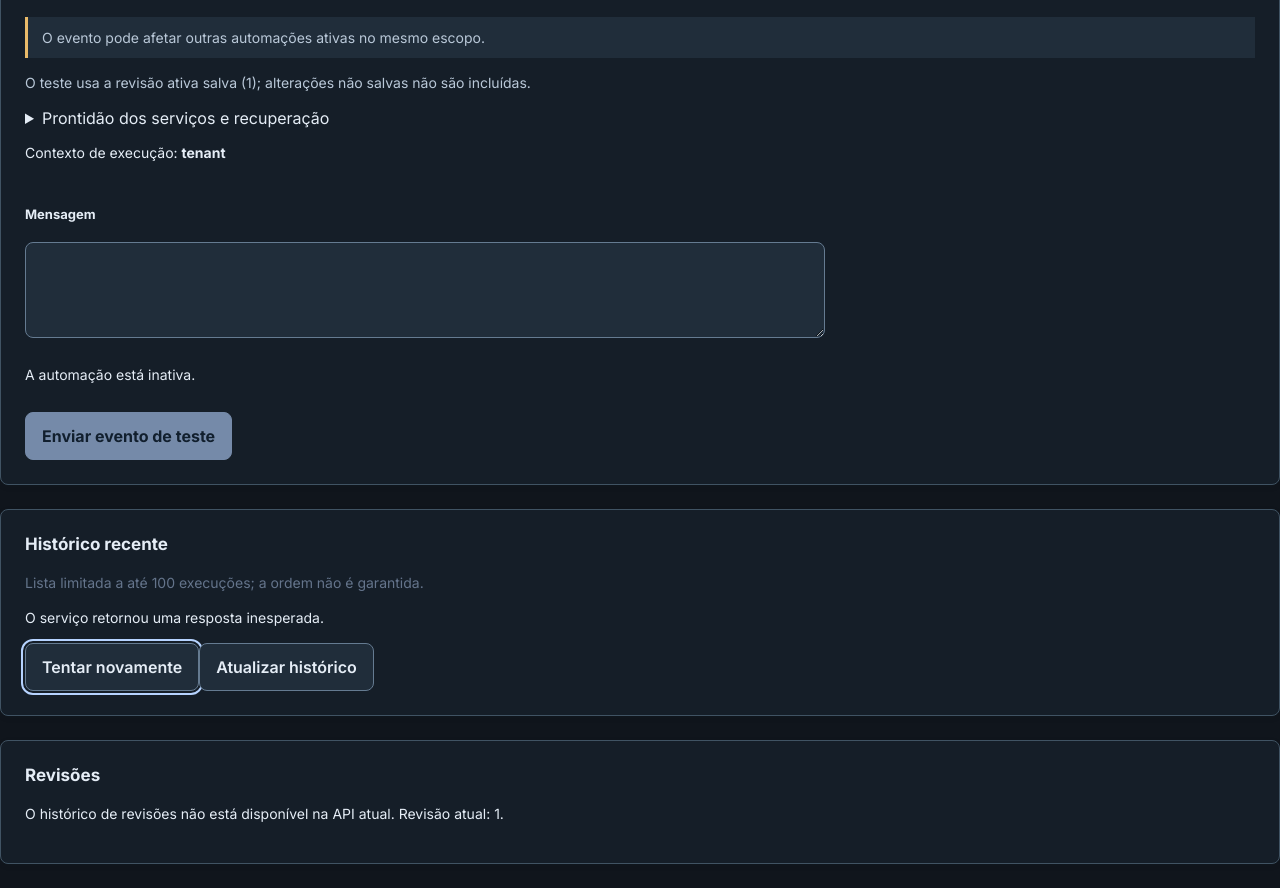
execution history interactions › sanitizes malformed errors, retries and retains meaningful focus through loading and empty states
(page scrolled)
Expected: the message shows "resposta inesperada", [25, 609, 324, 626]
Expected: the element "Histórico recente" does not show "PRIVATE_PAYLOAD_VALUE", [0, 508, 1279, 716]
Click the button "Tentar novamente". click: (112, 667)
box: [25, 643, 199, 691]
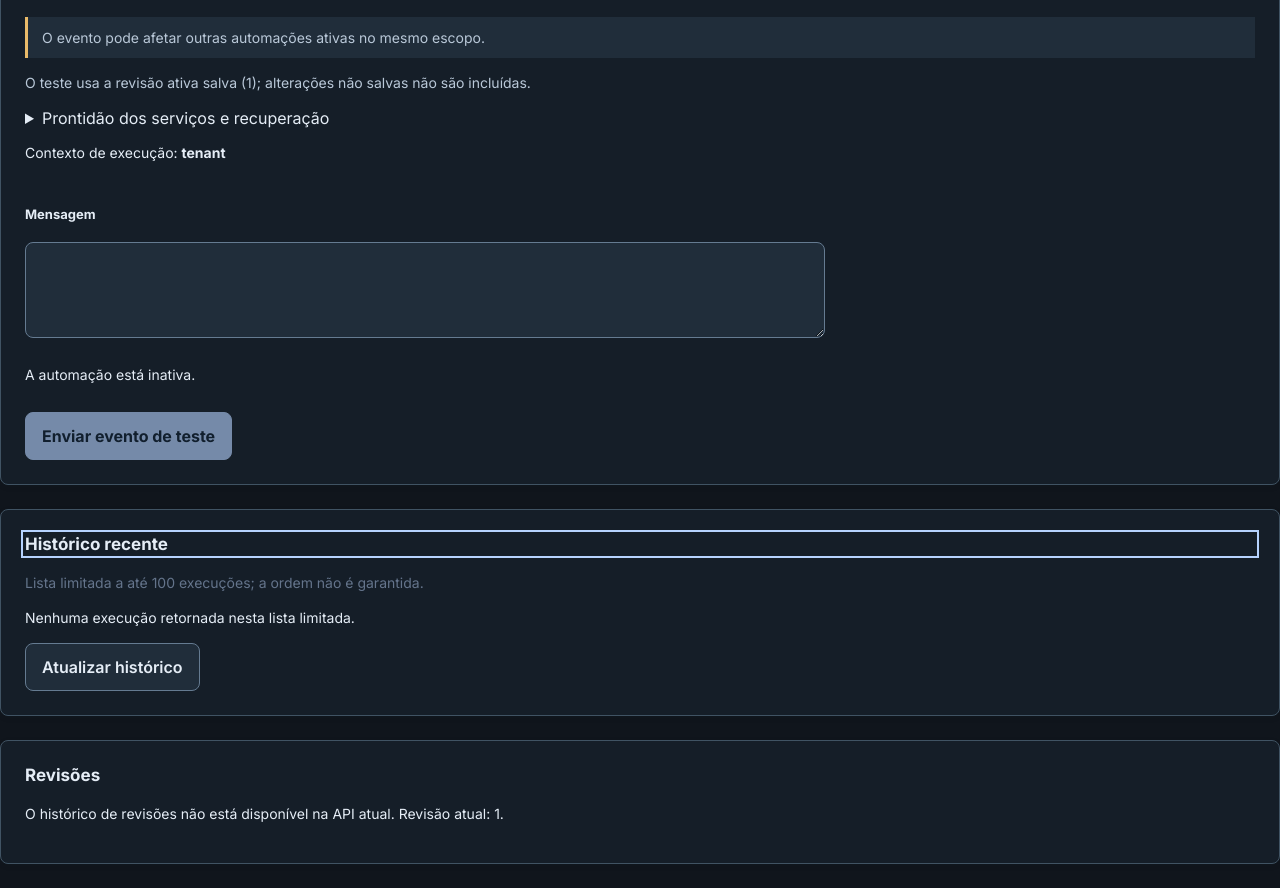
Now the text "Nenhuma execução retornada nesta lista limitada." is shown, box [25, 609, 355, 626]
